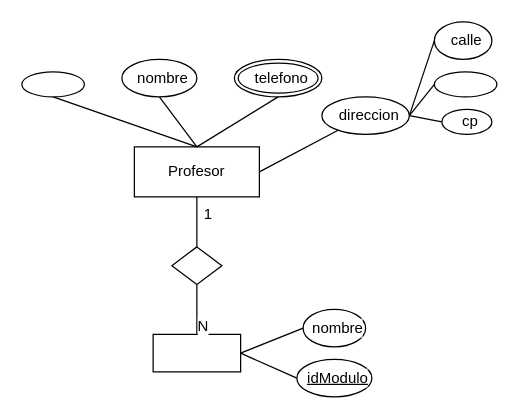
The diagram is 519 pixels wide and 419 high, and some of its shapes have lost their labels. The centre of each missing label's shape, as x and y in pixels:
"dni" goes at point 52,84.
"Impartir" goes at point 196,265.
"Modulo" goes at point 196,352.
"nro" goes at point 465,84.
